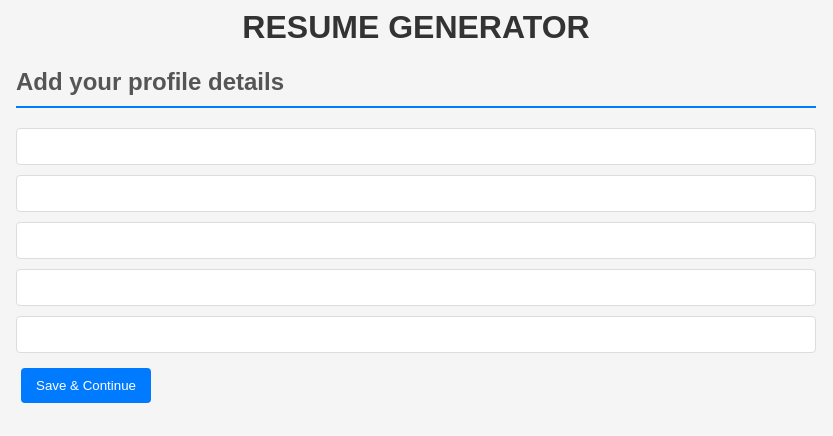
it: Resume Builder App › Validating Profile details field
The image size is (833, 436).
In the 1st field named "fname": (416, 147) [16,128,816,165], type "John"
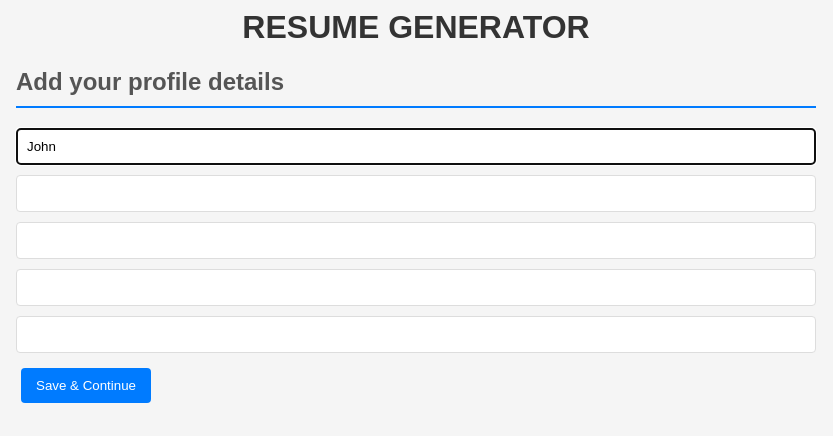
In the 2nd field named "lname": (416, 194) [16,175,816,212], type "Doe"
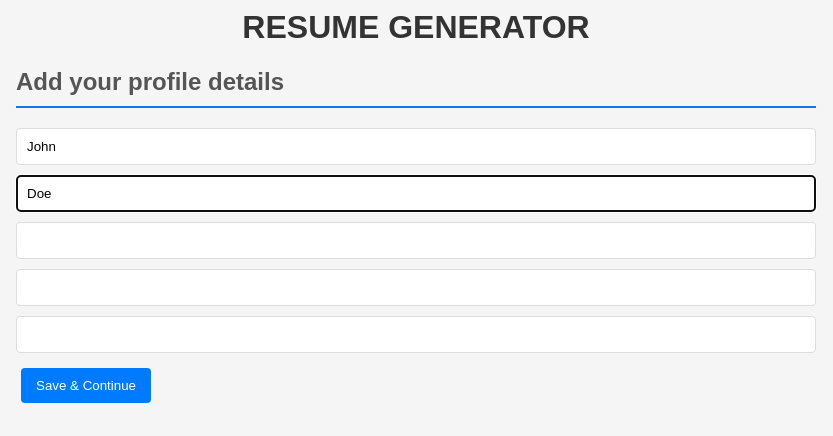
In the 3rd field named "phone": (416, 241) [16,222,816,259], type "1234567890"
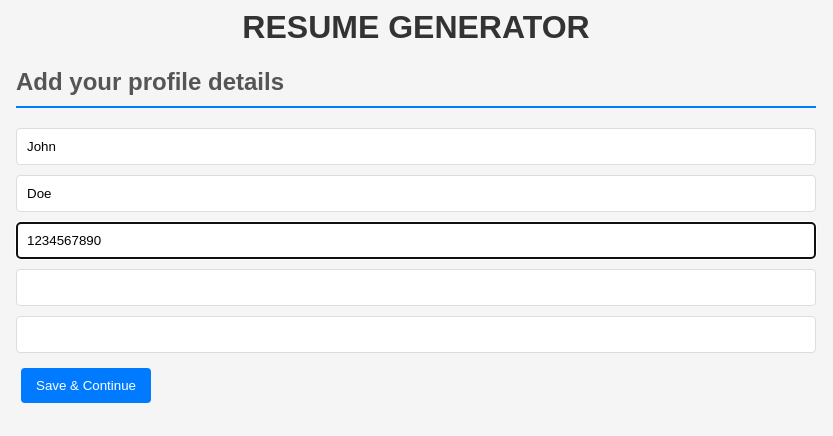
In the 4th field named "address": (416, 288) [16,269,816,306], type "Address"
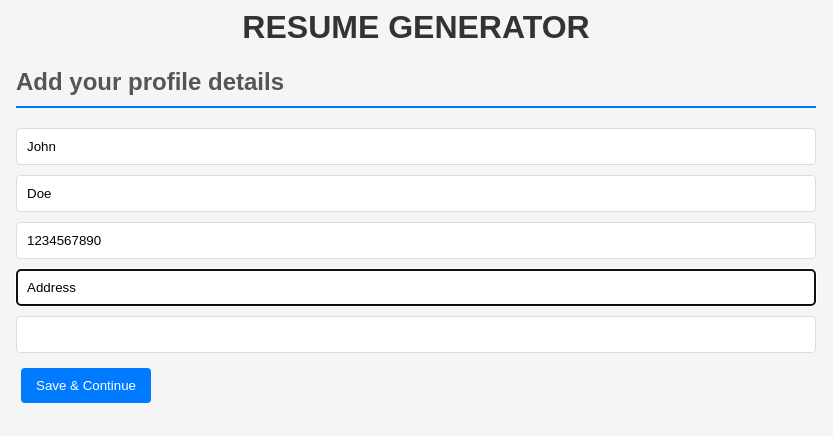
In the 5th field named "url": (416, 335) [16,316,816,353], type "http://example.com"
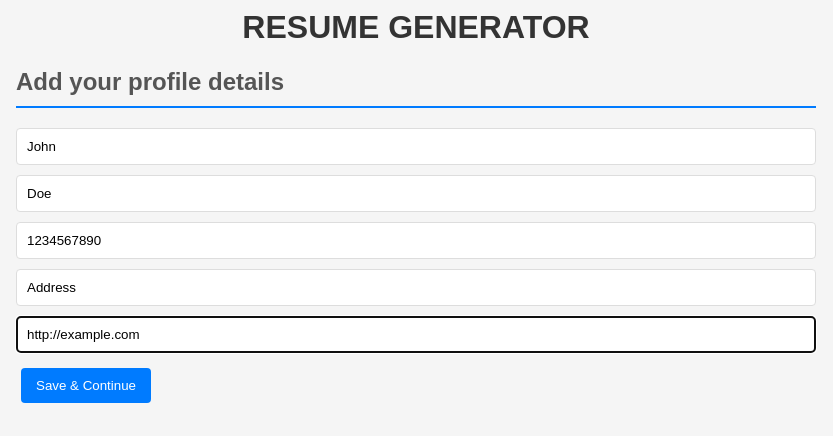
Click the button with id "save_continue": (86, 386) [21,368,151,403]
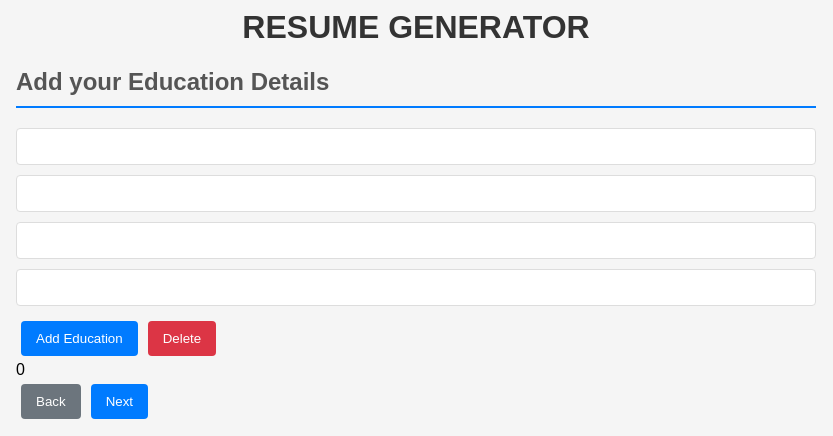
Expected: the heading "Add your Education Details" is shown, [16,68,816,108]
